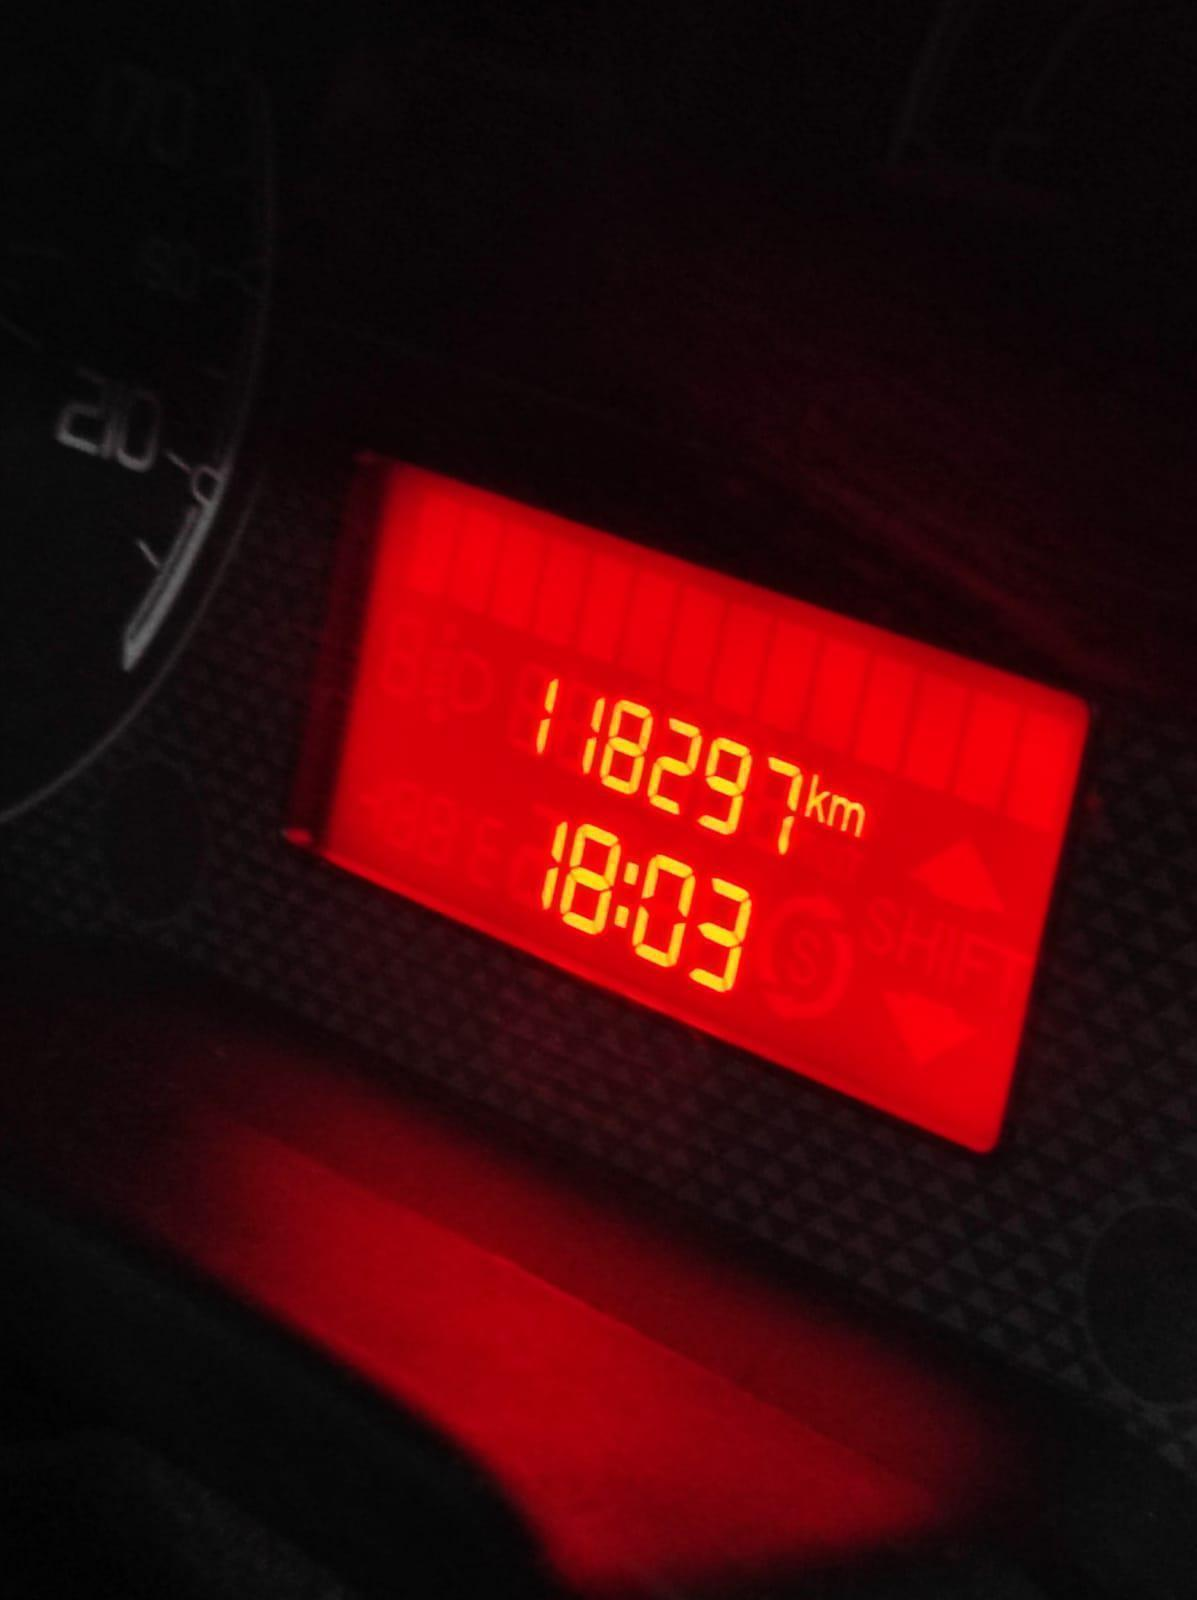0: (637, 838, 692, 979)
1: (524, 665, 561, 773), (534, 812, 568, 911), (575, 689, 609, 783)
2: (649, 698, 697, 823)
3: (702, 868, 754, 997)
7: (763, 744, 808, 871)
8: (558, 806, 616, 946), (600, 685, 646, 803)
9: (702, 721, 752, 847)
X: (829, 788, 868, 840), (615, 857, 639, 930), (802, 770, 829, 830)
odometer: (283, 446, 1103, 1176)
